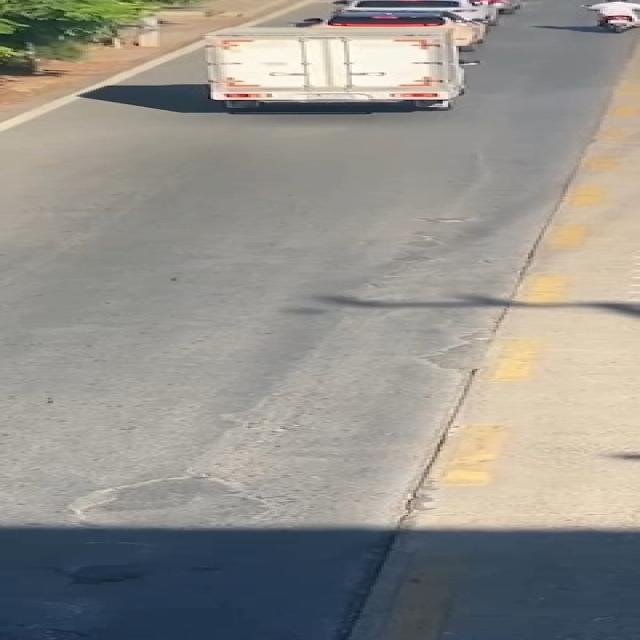car: (194, 23, 492, 117)
